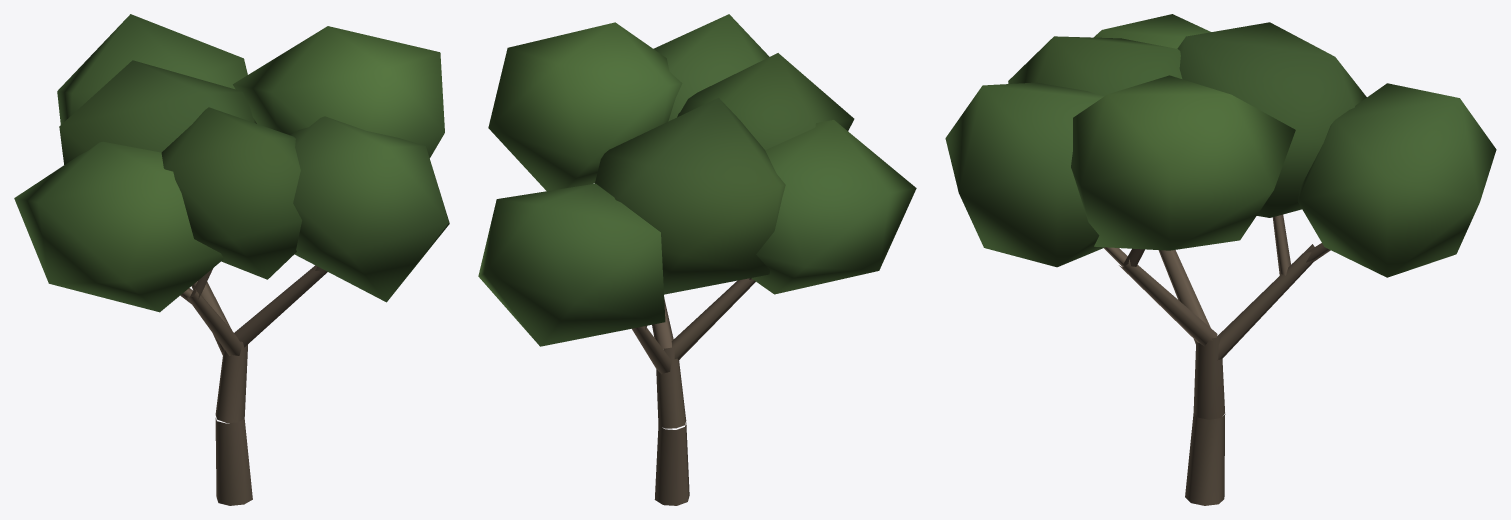
Rendered from tree-clumped.glb.
3 views of the same model, side by side, from view 1: azimuth 30°, elevation 25°; view 2: azimuth 150°, elevation 25°; view 3: azimuth 270°, elevation 25° (orthographic). The views are drawn at different scales.
Parts seen in each view (by area): view 1: tree-clumped; view 2: tree-clumped; view 3: tree-clumped.
Part boxes in pixels (left/top/right/bottom): tree-clumped: left=14, top=14, right=449, bottom=505; tree-clumped: left=478, top=14, right=916, bottom=505; tree-clumped: left=945, top=14, right=1496, bottom=505.
Size of the model in its own units: 7.67 by 7.95 by 8.66.
